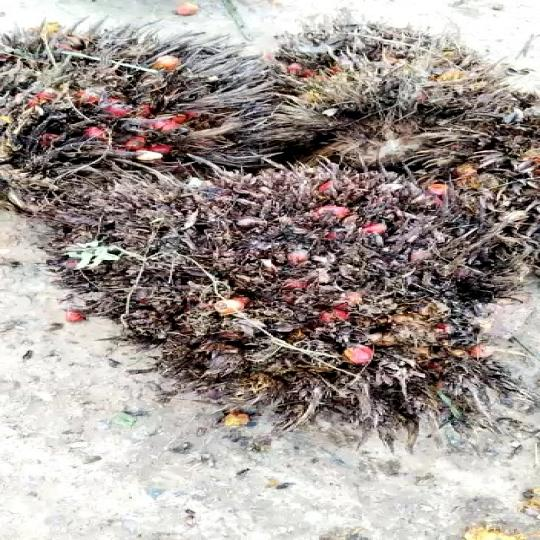terlalu masak: (54, 182, 502, 413), (0, 21, 291, 206)
